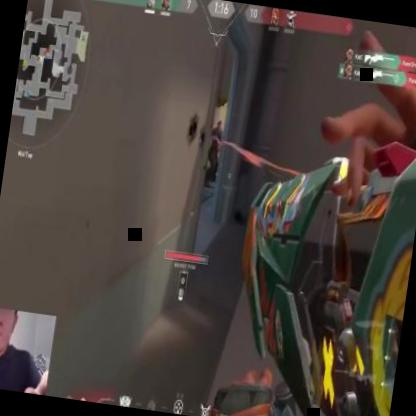enemy: (202, 119, 224, 190)
enemy_head: (215, 120, 222, 132)
